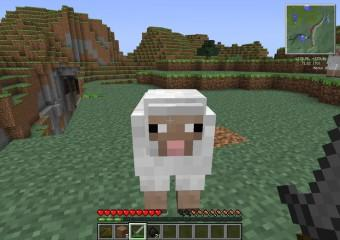sheep: (131, 90, 218, 212)
